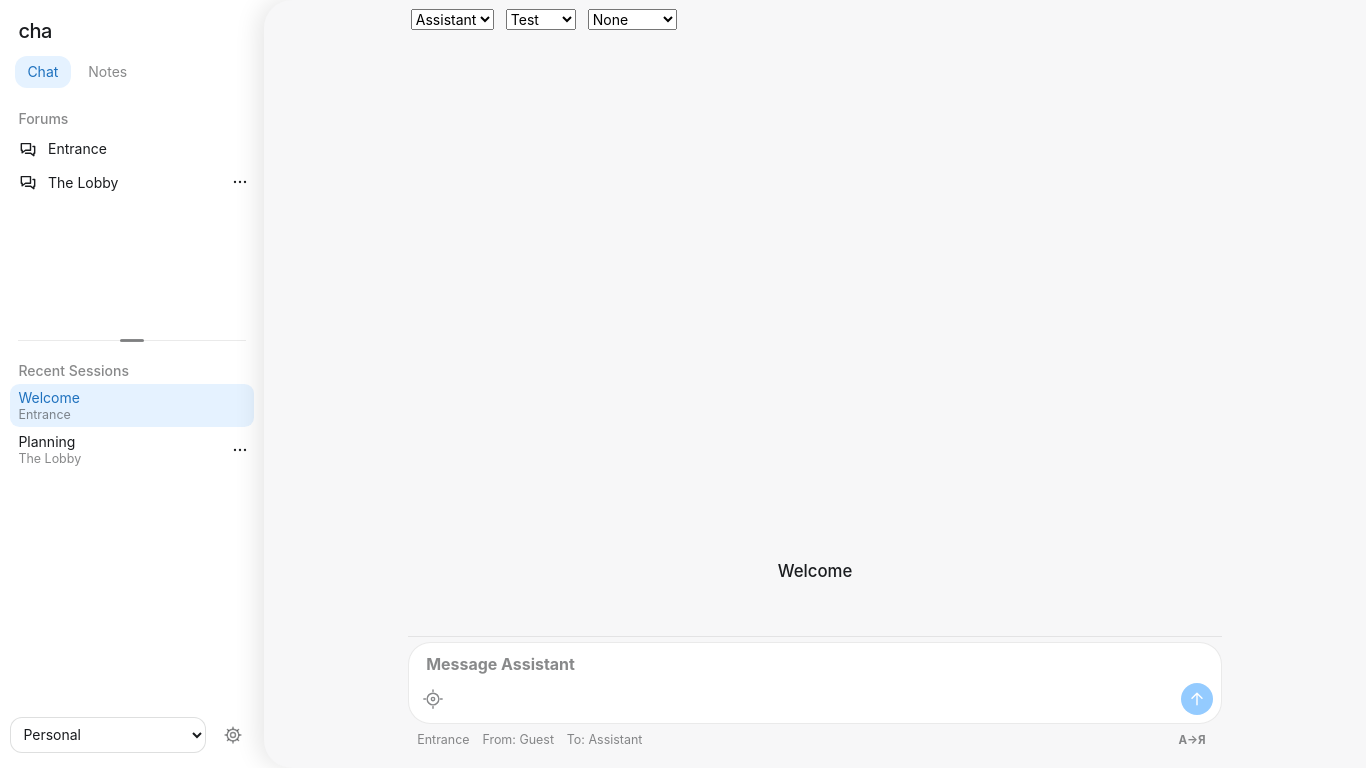
Test: live chat › transliterates Latin typing to Russian when the composer mode is enabled
This screenshot has width=1366, height=768.
Expected: the text box labelled "Message" is enabled, x1=417 y1=651 x2=1213 y2=679
Click the button named "Latin to Russian transliteration". click: point(1192, 741)
box: x1=1171 y1=730 x2=1213 y2=752
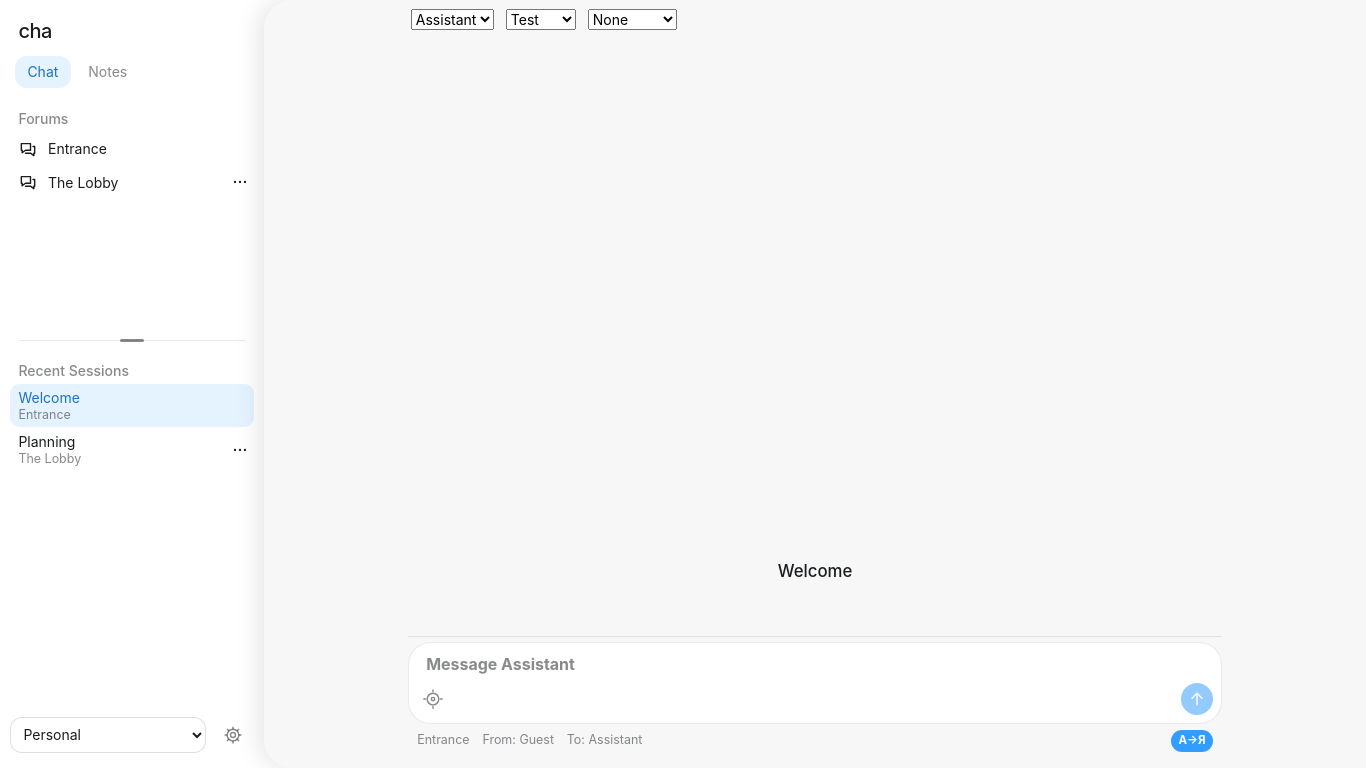
Expected: the button named "Latin to Russian transliteration" is pressed, x1=1171 y1=730 x2=1213 y2=752
Type "Privet, shhuka mozhet s+hodit' v raj+on." into the text box labelled "Message". click: point(815, 665)
box: x1=417 y1=651 x2=1213 y2=679
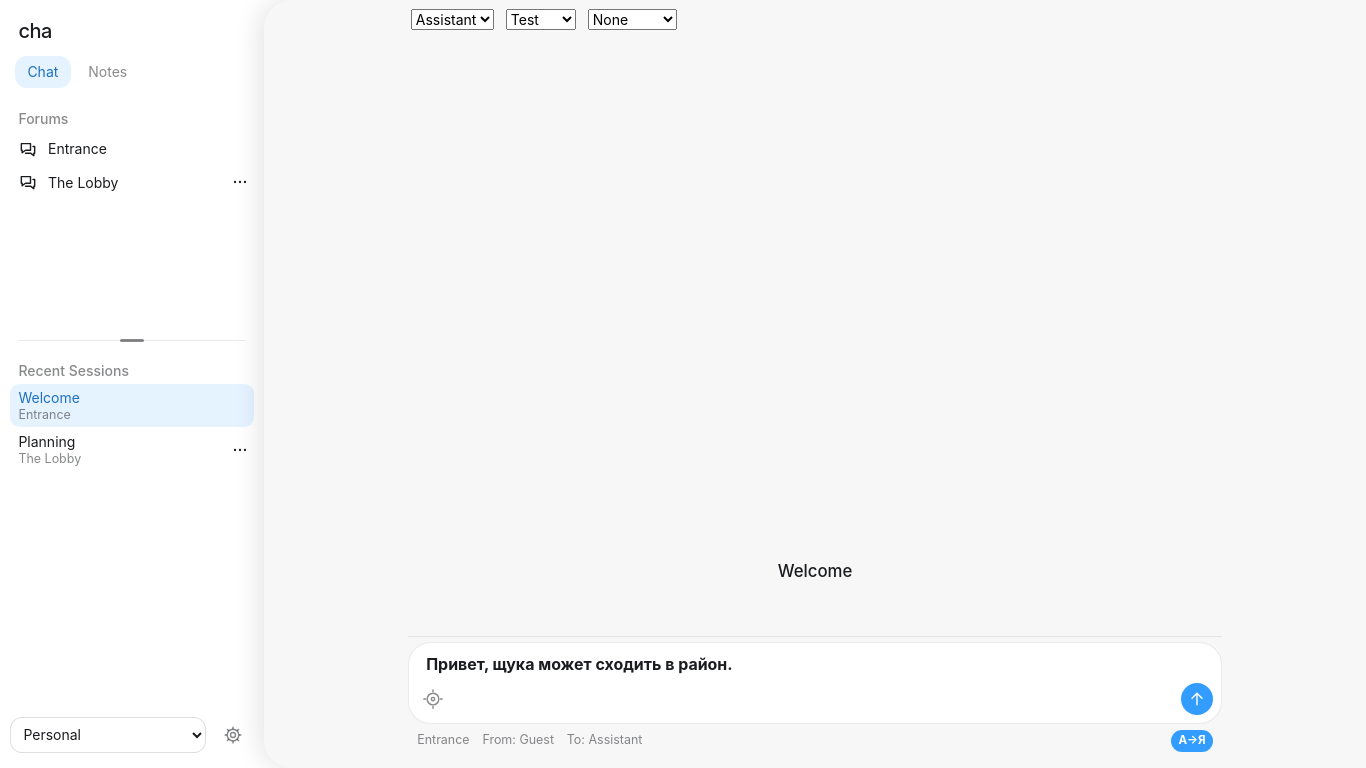
Expected: the text box named "Message" holds "Привет, щука может сходить в район.", x1=417 y1=651 x2=1213 y2=679
